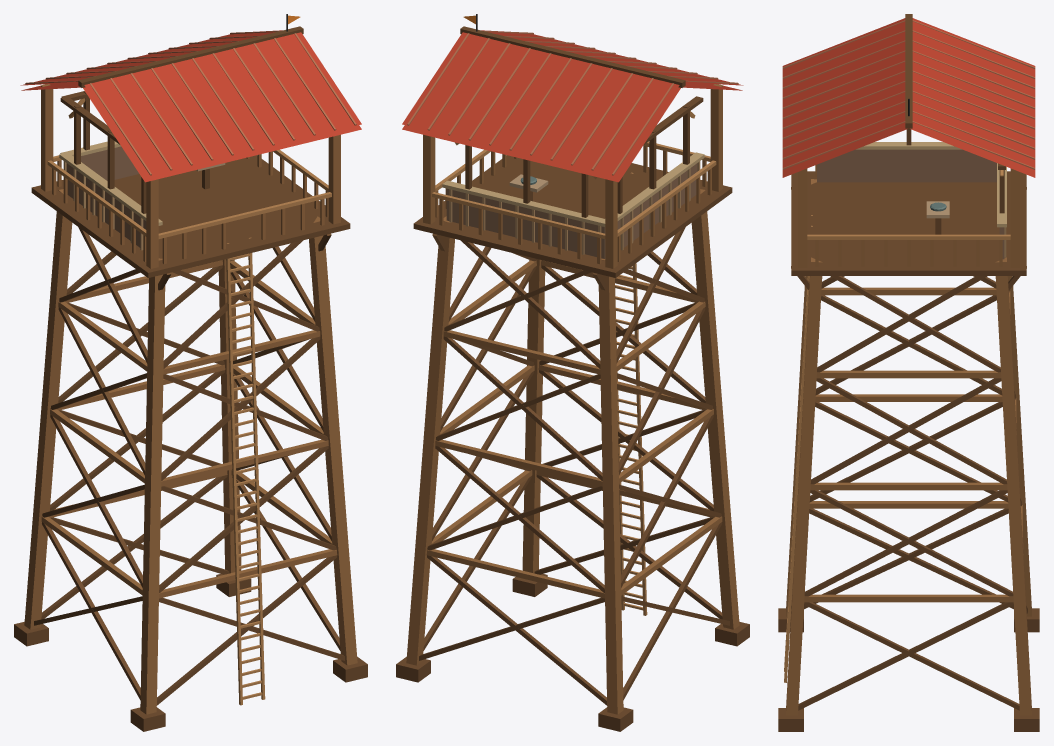
Rendered from lookout.glb.
3 renders of one model, left to right at view 1: azimuth 30°, elevation 25°; view 2: azimuth 150°, elevation 25°; view 3: azimuth 270°, elevation 25°, orthographic.
Parts seen in each view (by area): view 1: lookout, Ranger_windbreak_and_plane_table; view 2: lookout, Ranger_windbreak_and_plane_table; view 3: lookout, Ranger_windbreak_and_plane_table.
Boxes of the visible parts, x1=… form: lookout: x1=14, y1=14, x2=367, y2=731; Ranger_windbreak_and_plane_table: x1=25, y1=31, x2=356, y2=290; lookout: x1=396, y1=14, x2=749, y2=731; Ranger_windbreak_and_plane_table: x1=407, y1=31, x2=738, y2=290; lookout: x1=778, y1=14, x2=1039, y2=731; Ranger_windbreak_and_plane_table: x1=782, y1=20, x2=1035, y2=289.
Bounding box in the file's own units: 9.1 × 24.02 × 9.1.
